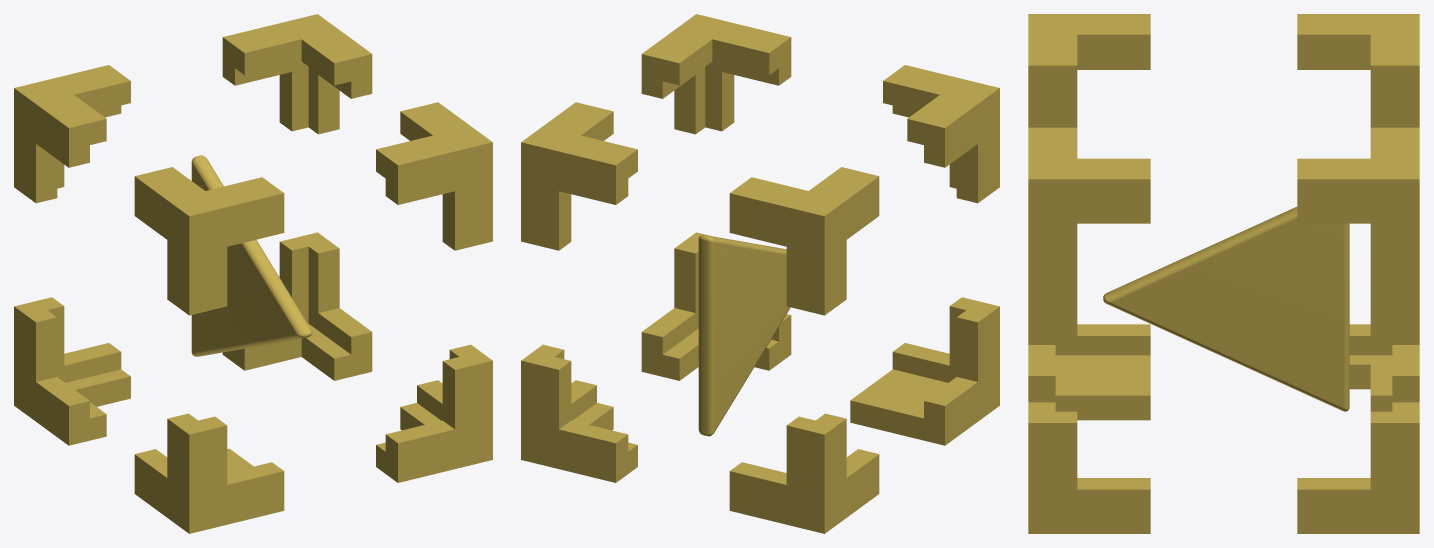
File: icon play.fbx
The picture shows the model from 3 angles, left to right: view 1: azimuth 30°, elevation 25°; view 2: azimuth 150°, elevation 25°; view 3: azimuth 270°, elevation 25°; orthographic projection. The views are drawn at different scales.
Visible parts, largest first — view 1: play_cube, play_icon; view 2: play_cube, play_icon; view 3: play_cube, play_icon.
Part boxes in pixels (left/top/right/bottom): play_cube: left=14, top=14, right=492, bottom=533; play_icon: left=191, top=155, right=312, bottom=356; play_cube: left=521, top=14, right=999, bottom=533; play_icon: left=698, top=235, right=790, bottom=436; play_cube: left=1028, top=14, right=1419, bottom=533; play_icon: left=1103, top=206, right=1349, bottom=411.
Bounding box in the file's own units: 0.1145 × 0.1145 × 0.1145.
